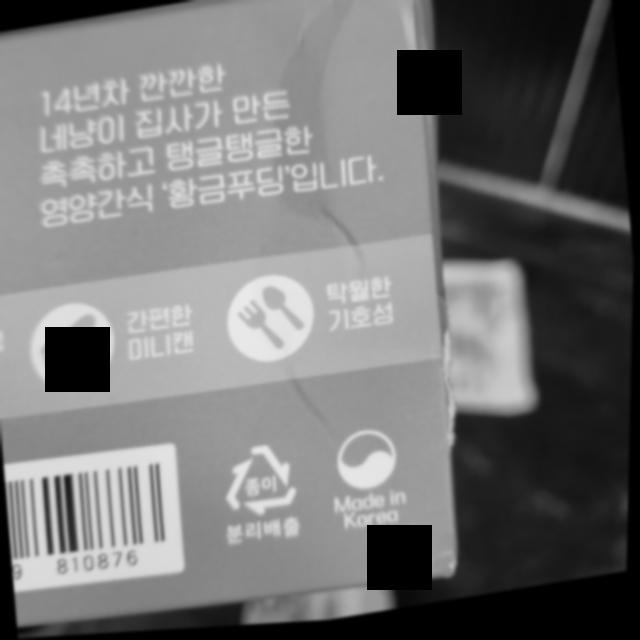Paper: (218, 435, 305, 527)
